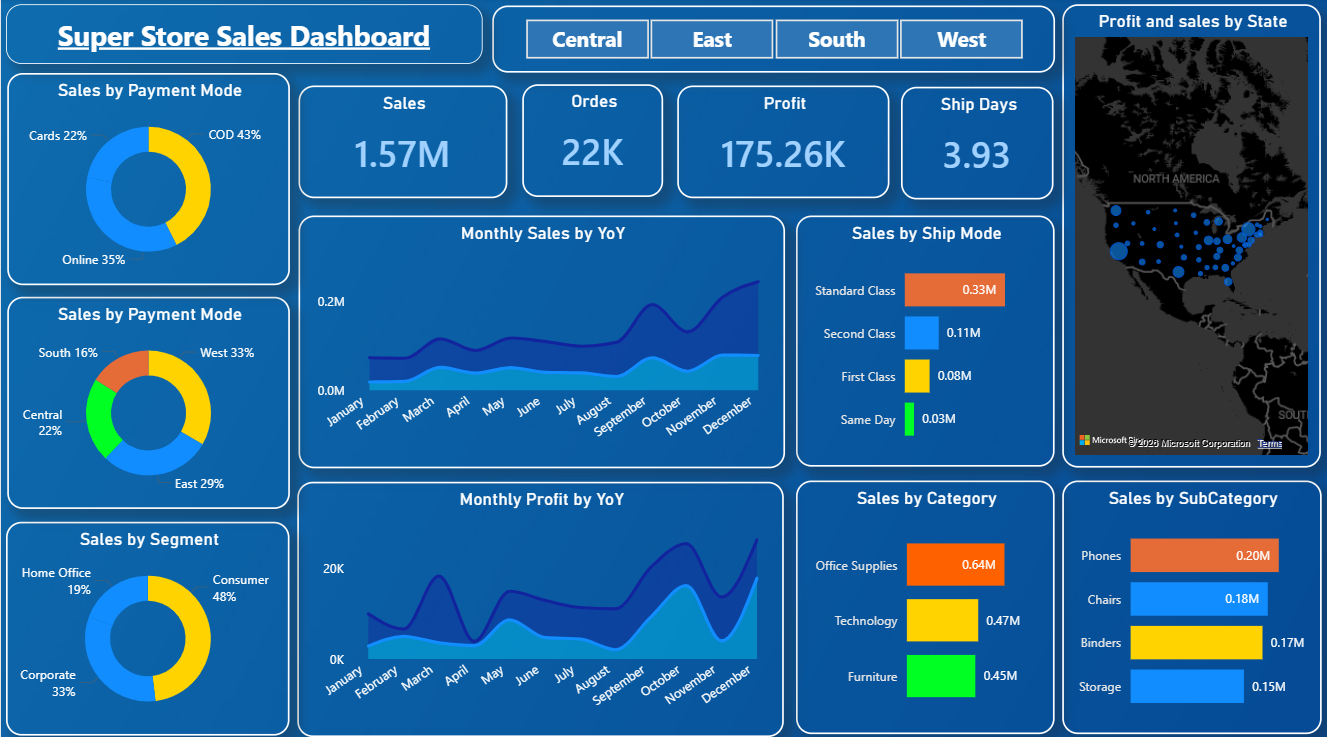

The page's visual inventory and layout, read from the dashboard file:
{"tool":"powerbi","page":{"name":"Page 1","canvas":[1280,720],"ordinal":0},"visuals":[{"type":"clusteredBarChart","title":"Sales by Category","fields":{"Category":["SuperStore_Sales_Dataset.Category"],"Y":["Sum(SuperStore_Sales_Dataset.Sales)"]},"box":[767.3,465.7,249.7,244.9],"z":0},{"type":"clusteredBarChart","title":"Sales by SubCategory","fields":{"Y":["Sum(SuperStore_Sales_Dataset.Sales)"],"Category":["SuperStore_Sales_Dataset.Sub-Category"]},"box":[1023.8,466.2,250,245],"z":1000},{"type":"clusteredBarChart","title":"Sales by Ship Mode","fields":{"Y":["Sum(SuperStore_Sales_Dataset.Sales)"],"Category":["SuperStore_Sales_Dataset.Ship Mode"]},"box":[767.3,209.9,249.7,242.5],"z":2000},{"type":"stackedAreaChart","title":"Monthly Sales by YoY","fields":{"Y":["Sum(SuperStore_Sales_Dataset.Sales)"],"Category":["SuperStore_Sales_Dataset.Order Date.Variation.Date Hierarchy.Month","SuperStore_Sales_Dataset.Order Date.Variation.Date Hierarchy.Day"],"Series":["SuperStore_Sales_Dataset.Order Date.Variation.Date Hierarchy.Year"]},"box":[287.1,209.9,469.3,243.7],"z":3000},{"type":"stackedAreaChart","title":"Monthly Profit by YoY","fields":{"Category":["SuperStore_Sales_Dataset.Order Date.Variation.Date Hierarchy.Month","SuperStore_Sales_Dataset.Order Date.Variation.Date Hierarchy.Day"],"Series":["SuperStore_Sales_Dataset.Order Date.Variation.Date Hierarchy.Year"],"Y":["Sum(SuperStore_Sales_Dataset.Profit)"]},"box":[285.9,466.9,469.3,246.1],"z":4000},{"type":"map","title":"Profit and sales by State","fields":{"Category":["SuperStore_Sales_Dataset.State"],"Size":["Sum(SuperStore_Sales_Dataset.Sales)"]},"box":[1024.3,6,255.8,447.6],"z":5000},{"type":"donutChart","title":"Sales by Segment","fields":{"Category":["SuperStore_Sales_Dataset.Segment"],"Y":["Sum(SuperStore_Sales_Dataset.Sales)"]},"box":[4.8,505.5,273.9,206.3],"z":6000},{"type":"donutChart","title":"Sales by Payment Mode","fields":{"Y":["Sum(SuperStore_Sales_Dataset.Sales)"],"Category":["SuperStore_Sales_Dataset.Region"]},"box":[6,288.3,272.7,205.1],"z":7000},{"type":"slicer","fields":{"Values":["SuperStore_Sales_Dataset.Region"]},"box":[474.1,7.2,542.9,65.1],"z":8000},{"type":"textbox","box":[4.8,6,459.7,57.9],"z":9000},{"type":"cardVisual","title":"Sales","fields":{"Data":["Sum(SuperStore_Sales_Dataset.Sales)"]},"box":[287.5,85,201.2,108.8],"z":10000},{"type":"cardVisual","title":"Ordes","fields":{"Data":["Sum(SuperStore_Sales_Dataset.Quantity)"]},"box":[502.5,83.8,136.2,108.8],"z":11000},{"type":"cardVisual","title":"Profit","fields":{"Data":["Sum(SuperStore_Sales_Dataset.Profit)"]},"box":[652.5,85,205,108.8],"z":12000},{"type":"cardVisual","title":"Ship Days","fields":{"Data":["Avg(SuperStore_Sales_Dataset.AvgDelivery)"]},"box":[868.8,86.2,147.5,108.8],"z":13000},{"type":"donutChart","title":"Sales by Payment Mode","fields":{"Y":["Sum(SuperStore_Sales_Dataset.Sales)"],"Category":["SuperStore_Sales_Dataset.Payment Mode"]},"box":[6,72.4,272.7,205.1],"z":14000}]}

Visuals, with their boxes in screenshot pixels (x1, y1, x2, y2), scaled from the page's 1280x720 canvas onto the 1327x737 screenshot:
"Sales by Category" clusteredBarChart: 795:477:1054:727
"Sales by SubCategory" clusteredBarChart: 1061:477:1321:728
"Sales by Ship Mode" clusteredBarChart: 795:215:1054:463
"Monthly Sales by YoY" stackedAreaChart: 298:215:784:464
"Monthly Profit by YoY" stackedAreaChart: 296:478:783:730
"Profit and sales by State" map: 1062:6:1326:464
"Sales by Segment" donutChart: 5:517:289:729
"Sales by Payment Mode" donutChart: 6:295:289:505
slicer - SuperStore_Sales_Dataset.Region: 492:7:1054:74
textbox: 5:6:482:65
"Sales" cardVisual: 298:87:507:198
"Ordes" cardVisual: 521:86:662:197
"Profit" cardVisual: 676:87:889:198
"Ship Days" cardVisual: 901:88:1054:200
"Sales by Payment Mode" donutChart: 6:74:289:284
